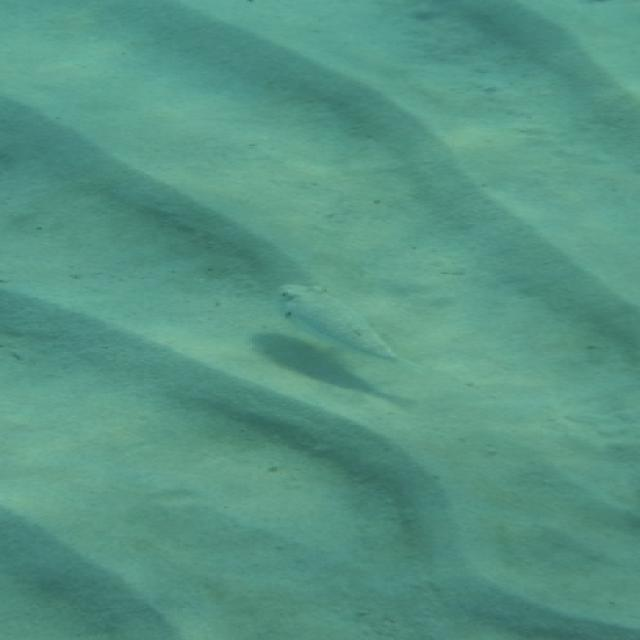Balik: (280, 285, 398, 360)
